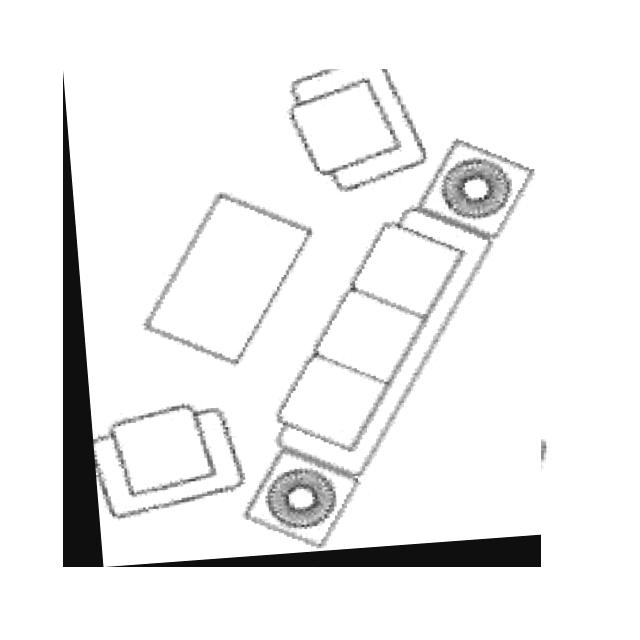sofa: (63, 69, 541, 567)
